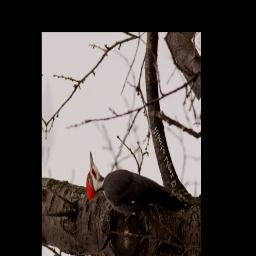Woodpecker: (85, 148, 190, 223)
